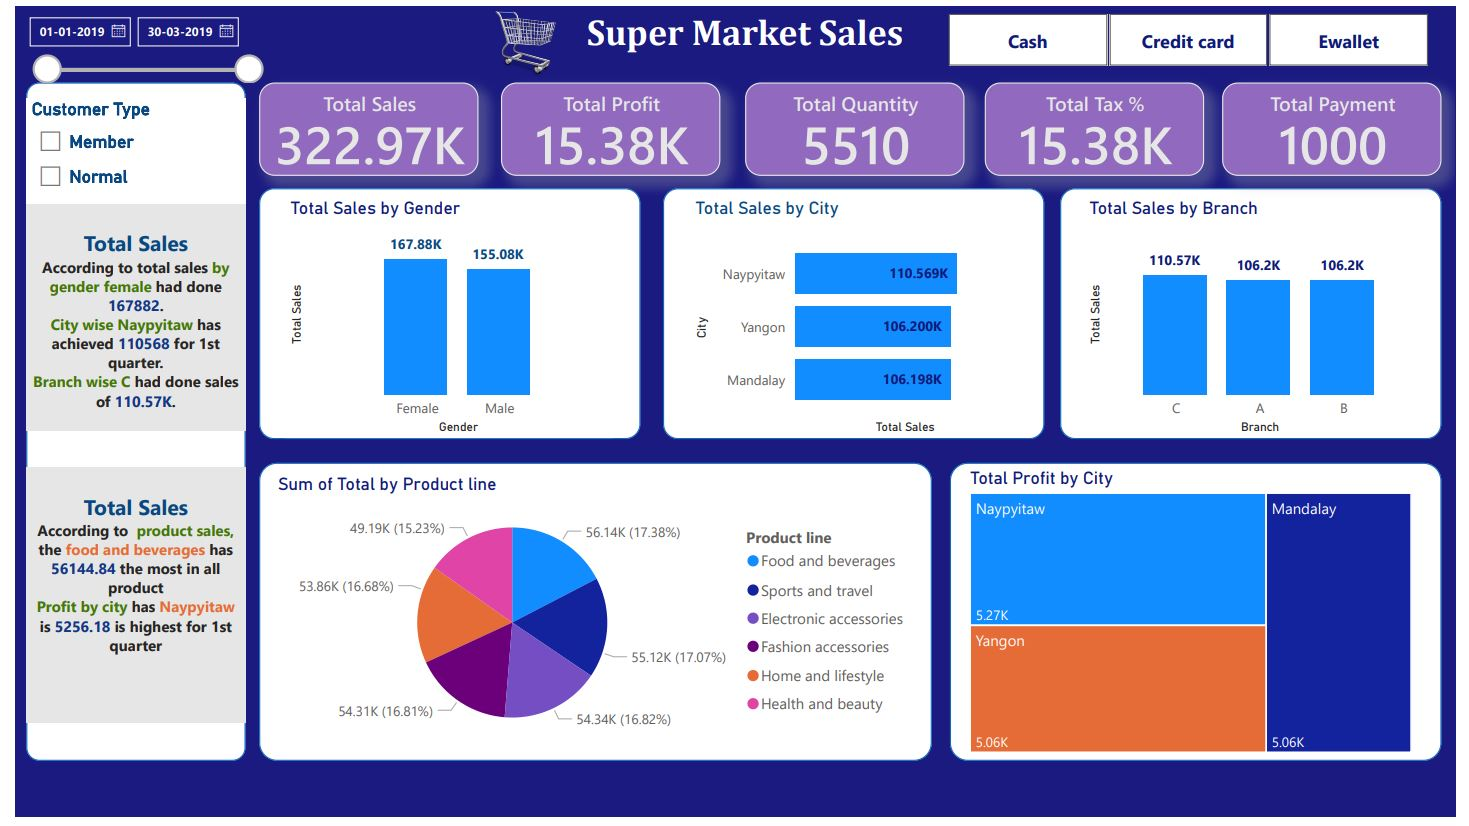

The page's visual inventory and layout, read from the dashboard file:
{"tool":"powerbi","page":{"name":"Page 1","canvas":[1280,720],"ordinal":0},"visuals":[{"type":"shape","box":[0,0,1279.8,57.1],"z":0},{"type":"textbox","box":[493.4,0,311.3,56.7],"z":1000},{"type":"card","title":"Total Sales","fields":{"Values":["Sum(supermarket_sales - Sheet1.Total)"]},"box":[216.7,67.9,195.2,83.3],"z":2000},{"type":"card","title":"Total Profit","fields":{"Values":["supermarket_sales - Sheet1.Total Profit"]},"box":[432.1,67.9,195.2,83.3],"z":3000},{"type":"card","title":"Total Quantity","fields":{"Values":["supermarket_sales - Sheet1.Total Quantity"]},"box":[648.8,67.9,195.2,83.3],"z":4000},{"type":"card","title":"Total Tax %","fields":{"Values":["supermarket_sales - Sheet1.Total Tax %"]},"box":[861.9,67.9,195.2,83.3],"z":5000},{"type":"shape","box":[216.7,161.9,339,223],"z":6000},{"type":"columnChart","fields":{"Category":["supermarket_sales - Sheet1.Gender"],"Y":["supermarket_sales - Sheet1.Total Sales"]},"box":[240.5,170.2,290.5,214.3],"z":7000},{"type":"shape","box":[576.2,161.9,339.3,223],"z":8000},{"type":"shape","box":[928.6,161.9,339.3,223],"z":9000},{"type":"columnChart","fields":{"Category":["supermarket_sales - Sheet1.Branch"],"Y":["supermarket_sales - Sheet1.Total Sales"]},"box":[950,170.2,296.4,214.3],"z":10000},{"type":"barChart","fields":{"Category":["supermarket_sales - Sheet1.City"],"Y":["supermarket_sales - Sheet1.Total Sales"]},"box":[600,170.2,294,214.3],"z":11000},{"type":"shape","box":[216.7,406,598.8,265.5],"z":12000},{"type":"pieChart","fields":{"Category":["supermarket_sales - Sheet1.Product line"],"Y":["Sum(supermarket_sales - Sheet1.Total)"]},"box":[228.6,415.5,575,247.6],"z":13000},{"type":"shape","box":[831,406,436.9,265.5],"z":14000},{"type":"treemap","fields":{"Group":["supermarket_sales - Sheet1.City"],"Values":["supermarket_sales - Sheet1.Total Profit"]},"box":[844.1,409.5,402.4,258.3],"z":15000},{"type":"shape","box":[9.5,67.9,195.2,603.6],"z":16000},{"type":"slicer","title":"Customer Type","fields":{"Values":["supermarket_sales - Sheet1.Customer type"]},"box":[9.5,82.1,195.2,101.2],"z":17000},{"type":"textbox","box":[9.5,176.2,195.2,201.2],"z":18000},{"type":"textbox","box":[9.5,409.5,195.2,227.4],"z":19000},{"type":"slicer","fields":{"Values":["supermarket_sales - Sheet1.Date_1"]},"box":[0,0,228.6,67.9],"z":20000},{"type":"slicer","fields":{"Values":["supermarket_sales - Sheet1.Payment"]},"box":[803.6,0,476.2,59.5],"z":21000},{"type":"card","title":"Total Payment","fields":{"Values":["supermarket_sales - Sheet1.Total Payment"]},"box":[1072.6,67.9,195.2,83.3],"z":22000},{"type":"image","box":[411.9,0,82.1,67.9],"z":23000}]}

Visuals, with their boxes in screenshot pixels (x1, y1, x2, y2), scaled from the page's 1280x720 canvas onto the 1469x826 screenshot:
shape: locate(0, 0, 1468, 66)
textbox: locate(566, 0, 924, 65)
"Total Sales" card: locate(249, 78, 473, 173)
"Total Profit" card: locate(496, 78, 720, 173)
"Total Quantity" card: locate(745, 78, 969, 173)
"Total Tax %" card: locate(989, 78, 1213, 173)
shape: locate(249, 186, 638, 442)
columnChart - supermarket_sales - Sheet1.Gender x supermarket_sales - Sheet1.Total Sales: locate(276, 195, 609, 441)
shape: locate(661, 186, 1051, 442)
shape: locate(1066, 186, 1455, 442)
columnChart - supermarket_sales - Sheet1.Branch x supermarket_sales - Sheet1.Total Sales: locate(1090, 195, 1430, 441)
barChart - supermarket_sales - Sheet1.City x supermarket_sales - Sheet1.Total Sales: locate(689, 195, 1026, 441)
shape: locate(249, 466, 936, 770)
pieChart - supermarket_sales - Sheet1.Product line x Sum(supermarket_sales - Sheet1.Total): locate(262, 477, 922, 761)
shape: locate(954, 466, 1455, 770)
treemap - supermarket_sales - Sheet1.City x supermarket_sales - Sheet1.Total Profit: locate(969, 470, 1431, 766)
shape: locate(11, 78, 235, 770)
"Customer Type" slicer: locate(11, 94, 235, 210)
textbox: locate(11, 202, 235, 433)
textbox: locate(11, 470, 235, 731)
slicer - supermarket_sales - Sheet1.Date_1: locate(0, 0, 262, 78)
slicer - supermarket_sales - Sheet1.Payment: locate(922, 0, 1468, 68)
"Total Payment" card: locate(1231, 78, 1455, 173)
image: locate(473, 0, 567, 78)
